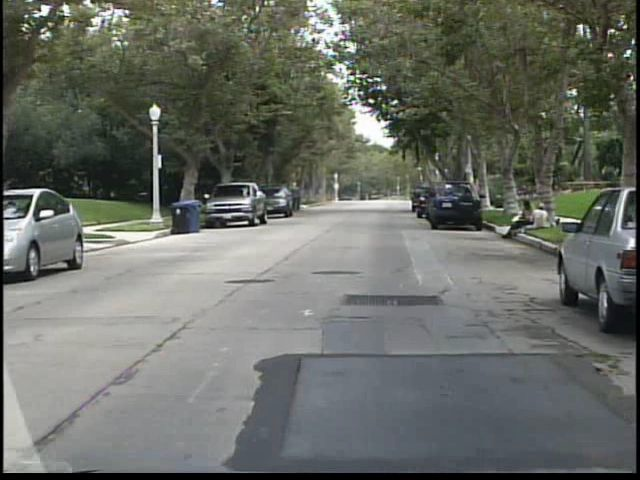person: (503, 197, 537, 241), (528, 203, 549, 229)
